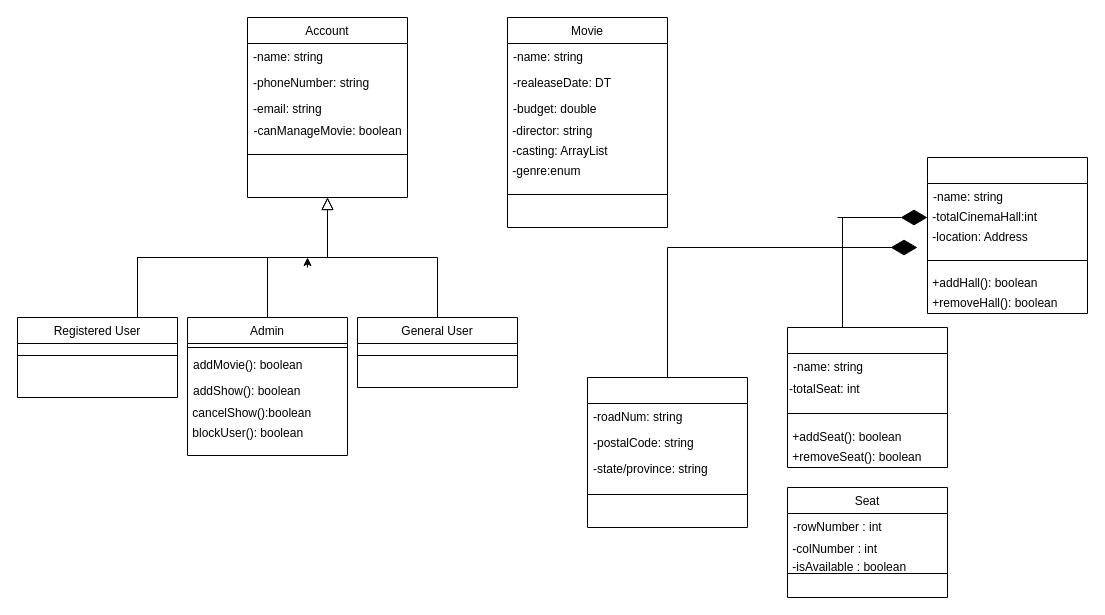
The diagram is 1105 pixels wide and 615 high, and some of its shapes have lost their labels. Each missing label, with the box of its shape:
Address: (586, 376, 748, 528)
Hall: (786, 326, 948, 468)
Theater: (926, 156, 1088, 314)
